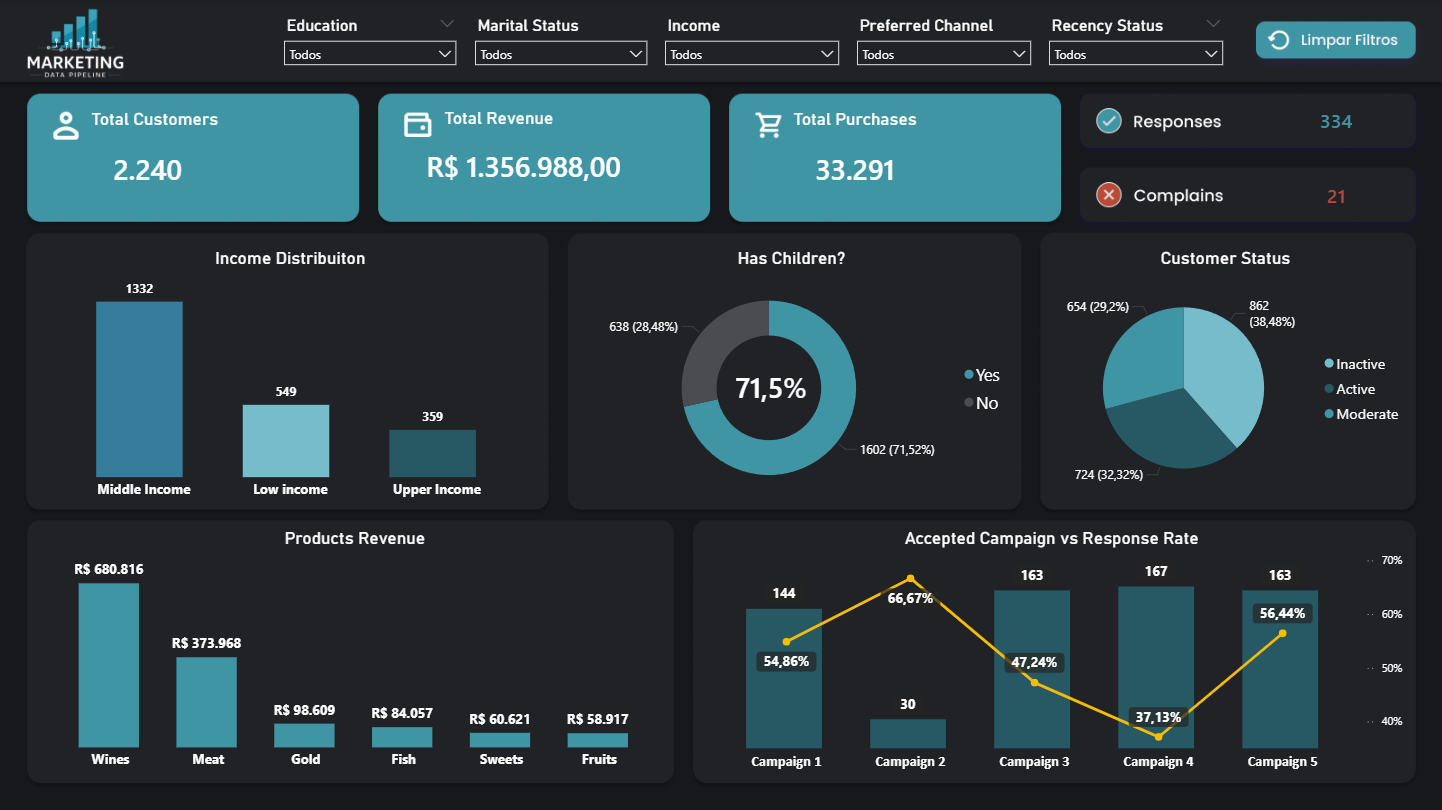

What the dashboard file says about the page in this screenshot:
{"tool":"powerbi","page":{"name":"Página 1","canvas":[1600,900],"ordinal":0},"visuals":[{"type":"columnChart","title":"Income Distribuiton","fields":{"Category":["vw_customer_profile.income_status"],"Y":["CountNonNull(vw_customer_profile.id)"]},"box":[37.8,275.4,570.6,288],"z":0},{"type":"donutChart","title":"Has Children?","fields":{"Category":["vw_customer_profile.has_children"],"Y":["CountNonNull(vw_customer_profile.id)"]},"box":[633.6,275.4,489.6,288],"z":1000},{"type":"slicer","fields":{"Values":["vw_customer_profile.education"]},"box":[306.2,12.5,211.2,70],"z":2000},{"type":"slicer","fields":{"Values":["vw_customer_profile.marital_status"]},"box":[517.5,12.5,211.2,70],"z":3000},{"type":"cardVisual","title":"Total Clientes","fields":{"Data":["vw_campaign_perfomance.Total Complain"]},"box":[1418.8,183.8,127.5,61.2],"z":4000},{"type":"cardVisual","title":"Total Clientes","fields":{"Data":["vw_campaign_perfomance.Total Response"]},"box":[1418.8,103.8,127.5,56.2],"z":5000},{"type":"slicer","fields":{"Values":["vw_customer_profile.income_status"]},"box":[728.8,12.5,212.5,70],"z":6000},{"type":"slicer","fields":{"Values":["vw_customer_activity.chanel_preferido"]},"box":[941.2,12.5,212.5,70],"z":7000},{"type":"slicer","fields":{"Values":["vw_customer_activity.recency_status"]},"box":[1153.8,12.5,212.5,70],"z":8000},{"type":"columnChart","title":"Products Revenue","fields":{"Category":["vw_products_revenue.Produtos"],"Y":["Sum(vw_products_revenue.total)"]},"box":[39.6,585,709.2,277.2],"z":9000},{"type":"pieChart","title":"Customer Status","fields":{"Category":["vw_customer_activity.recency_status"],"Y":["vw_customer_profile.Total Clientes"]},"box":[1152.7,274.9,413.4,288.2],"z":10000},{"type":"lineClusteredColumnComboChart","title":"Accepted Campaign vs Response Rate","fields":{"Category":["vw_campaign_conversion.campaign"],"Y":["Sum(vw_campaign_conversion.total_accepted)"],"Y2":["vw_campaign_conversion.Taxa de Conversão"]},"box":[768.6,585,797.4,277.2],"z":11000},{"type":"cardVisual","title":"Total Customers","fields":{"Data":["vw_customer_profile.Total Clientes"]},"box":[97,121,277.2,108],"z":12000},{"type":"cardVisual","title":"Total Revenue","fields":{"Data":["vw_customer_profile.Children Dinamico"]},"box":[780.9,362.7,148.2,130],"z":13000},{"type":"cardVisual","title":"Total Purchases","fields":{"Data":["vw_customer_activity.Total Purchase"]},"box":[876,121,277.2,108],"z":14000},{"type":"cardVisual","title":"Total Revenue","fields":{"Data":["vw_customer_spending.Total Revenue"]},"box":[488.8,119.7,279.3,108.6],"z":15000},{"type":"cardVisual","title":"Total Revenue","fields":{"Data":["vw_customer_spending.Total Revenue"]},"box":[445,129,279.6,108.2],"z":16000},{"type":"actionButton","box":[1391.2,22.5,178,45],"z":17000}]}

Visuals, with their boxes in screenshot pixels (x1, y1, x2, y2), scaled from the page's 1600x900 canvas onto the 1442x810 screenshot:
"Income Distribuiton" columnChart: locate(34, 248, 548, 507)
"Has Children?" donutChart: locate(571, 248, 1012, 507)
slicer - vw_customer_profile.education: locate(276, 11, 466, 74)
slicer - vw_customer_profile.marital_status: locate(466, 11, 657, 74)
"Total Clientes" cardVisual: locate(1279, 165, 1394, 220)
"Total Clientes" cardVisual: locate(1279, 93, 1394, 144)
slicer - vw_customer_profile.income_status: locate(657, 11, 848, 74)
slicer - vw_customer_activity.chanel_preferido: locate(848, 11, 1040, 74)
slicer - vw_customer_activity.recency_status: locate(1040, 11, 1231, 74)
"Products Revenue" columnChart: locate(36, 526, 675, 776)
"Customer Status" pieChart: locate(1039, 247, 1411, 507)
"Accepted Campaign vs Response Rate" lineClusteredColumnComboChart: locate(693, 526, 1411, 776)
"Total Customers" cardVisual: locate(87, 109, 337, 206)
"Total Revenue" cardVisual: locate(704, 326, 837, 443)
"Total Purchases" cardVisual: locate(789, 109, 1039, 206)
"Total Revenue" cardVisual: locate(441, 108, 692, 205)
"Total Revenue" cardVisual: locate(401, 116, 653, 213)
actionButton: locate(1254, 20, 1414, 61)
